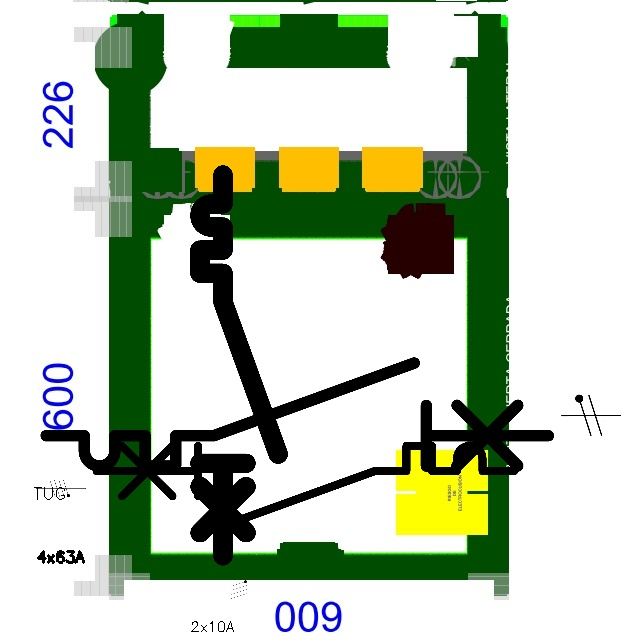interruptor_termomagnetico: (33, 350, 561, 479), (85, 435, 524, 542), (190, 165, 288, 565)
